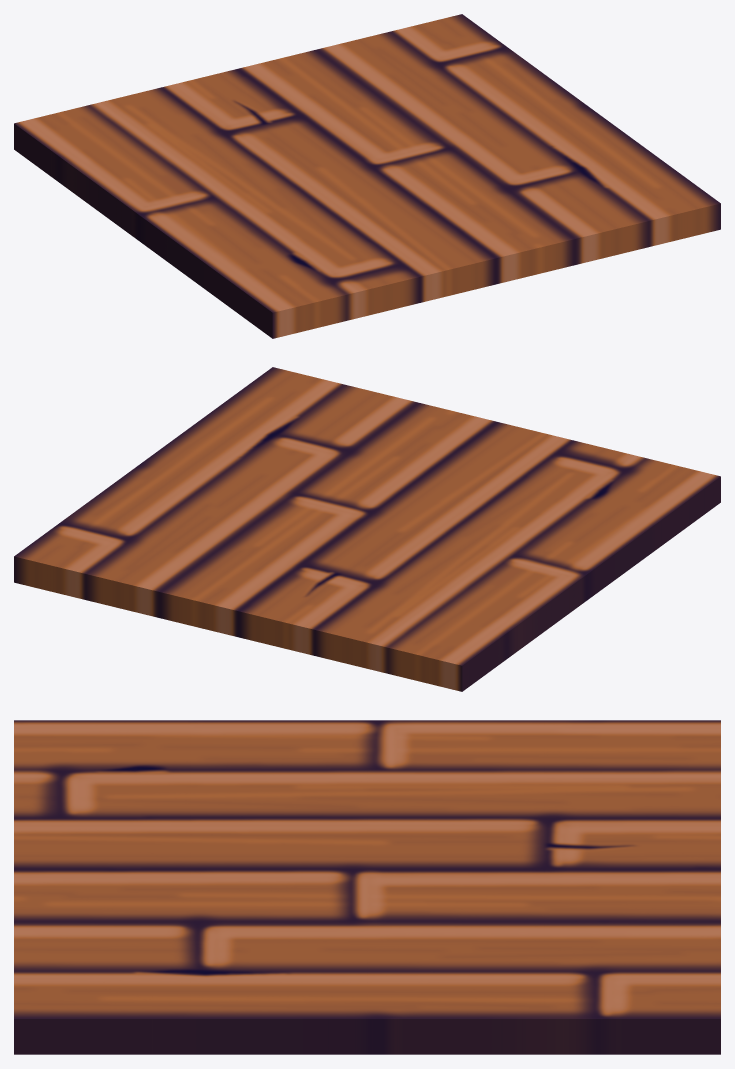
The model's file is Planche.fbx.
3 renders of one model, top to bottom at view 1: azimuth 30°, elevation 25°; view 2: azimuth 150°, elevation 25°; view 3: azimuth 270°, elevation 25°, orthographic. The views are drawn at different scales.
Visible parts, largest first — view 1: Plane.003; view 2: Plane.003; view 3: Plane.003.
Part boxes in pixels (bbox=[...]): Plane.003: bbox=[14, 14, 720, 338]; Plane.003: bbox=[14, 367, 720, 691]; Plane.003: bbox=[14, 720, 720, 1054].
Bounding box in the file's own units: 328 × 18.29 × 328.
1 material, 1 textured.
